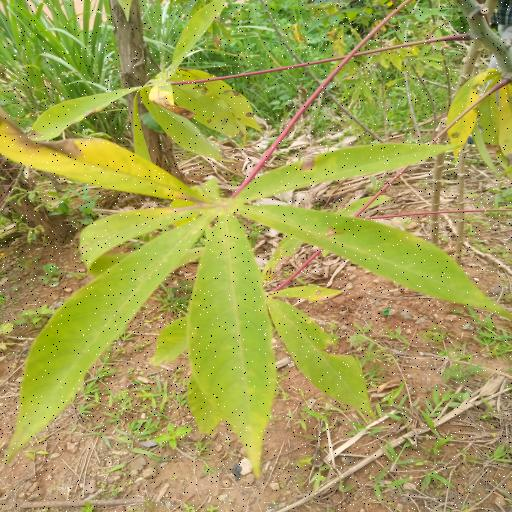Cassava_Brown_Leaf_Spot: (4, 112, 510, 468)
